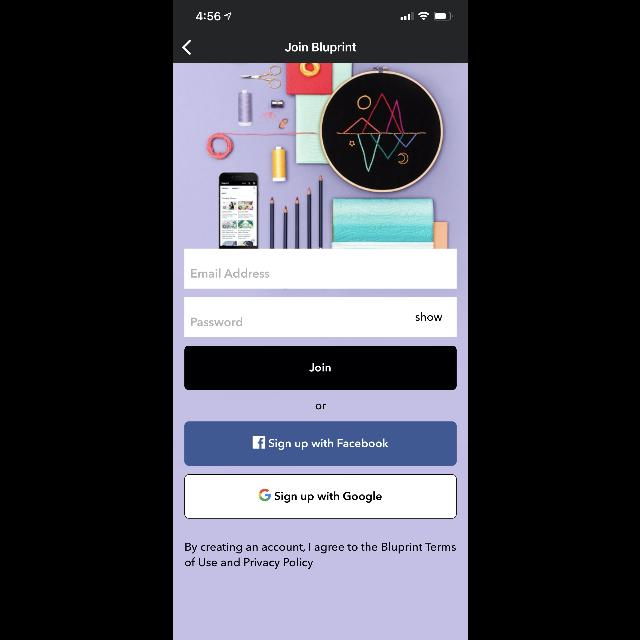backgroundimage: (172, 64, 468, 640)
icon: (182, 40, 190, 54)
input: (184, 297, 456, 337), (184, 249, 456, 289)
text: (184, 542, 456, 568), (284, 42, 356, 54), (191, 268, 269, 278), (190, 318, 242, 327), (414, 312, 442, 321), (315, 404, 325, 410)
textbutton: (184, 474, 456, 518), (184, 422, 456, 466), (184, 346, 456, 390)
uppertaskbar: (196, 12, 452, 20)
